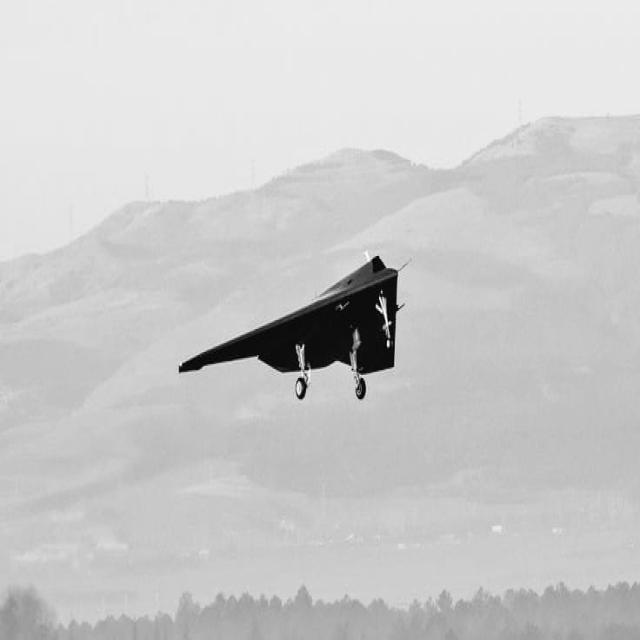iha: (179, 254, 403, 399)
